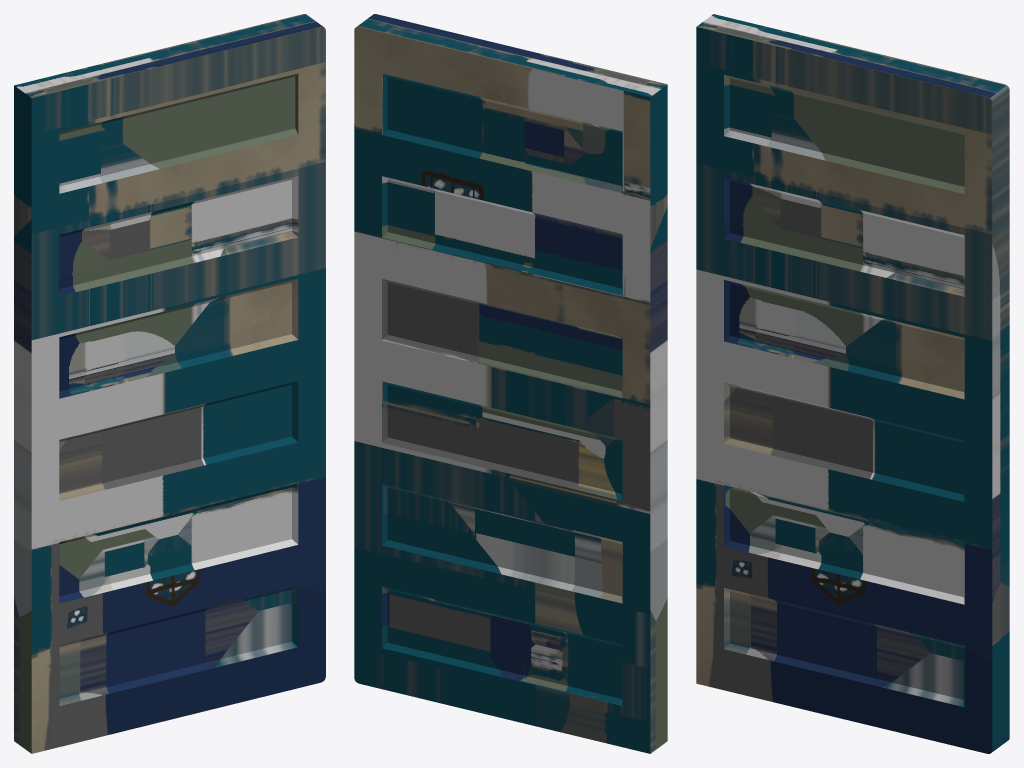
File: WoollowDoor.fbx
3 renders of one model, left to right at view 1: azimuth 30°, elevation 25°; view 2: azimuth 150°, elevation 25°; view 3: azimuth 330°, elevation 25°, orthographic.
Parts seen in each view (by area): view 1: WoollowDoor; view 2: WoollowDoor; view 3: WoollowDoor.
Boxes of the visible parts, left/top/right/bottom form: WoollowDoor: left=14, top=14, right=325, bottom=753; WoollowDoor: left=354, top=14, right=667, bottom=753; WoollowDoor: left=696, top=14, right=1009, bottom=753.
Size of the model in its own units: 2.76 by 5.87 by 0.2975.
